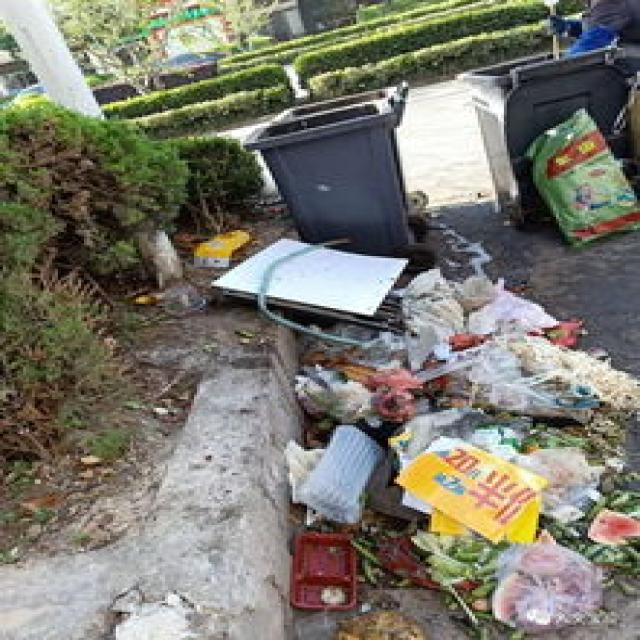garbage: (185, 225, 637, 638), (521, 108, 637, 243)
garbage_bin: (240, 78, 412, 254)
overflow: (452, 22, 631, 236)
